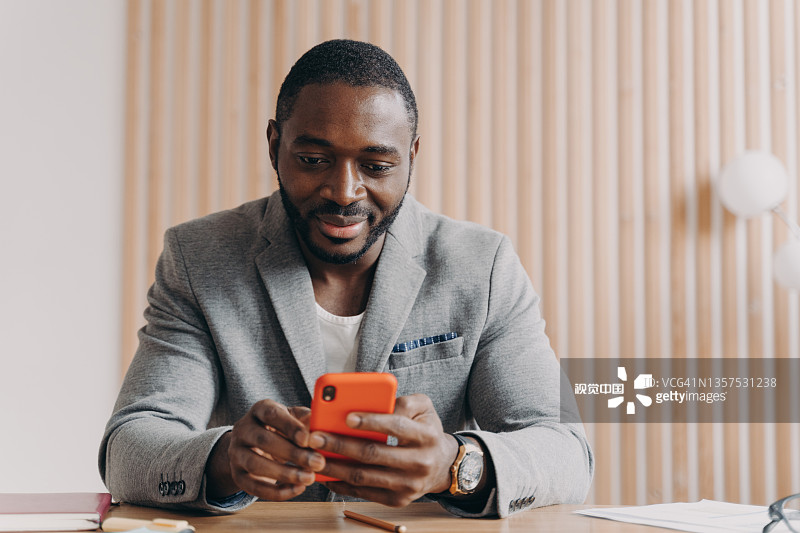reading: (209, 363, 462, 513)
